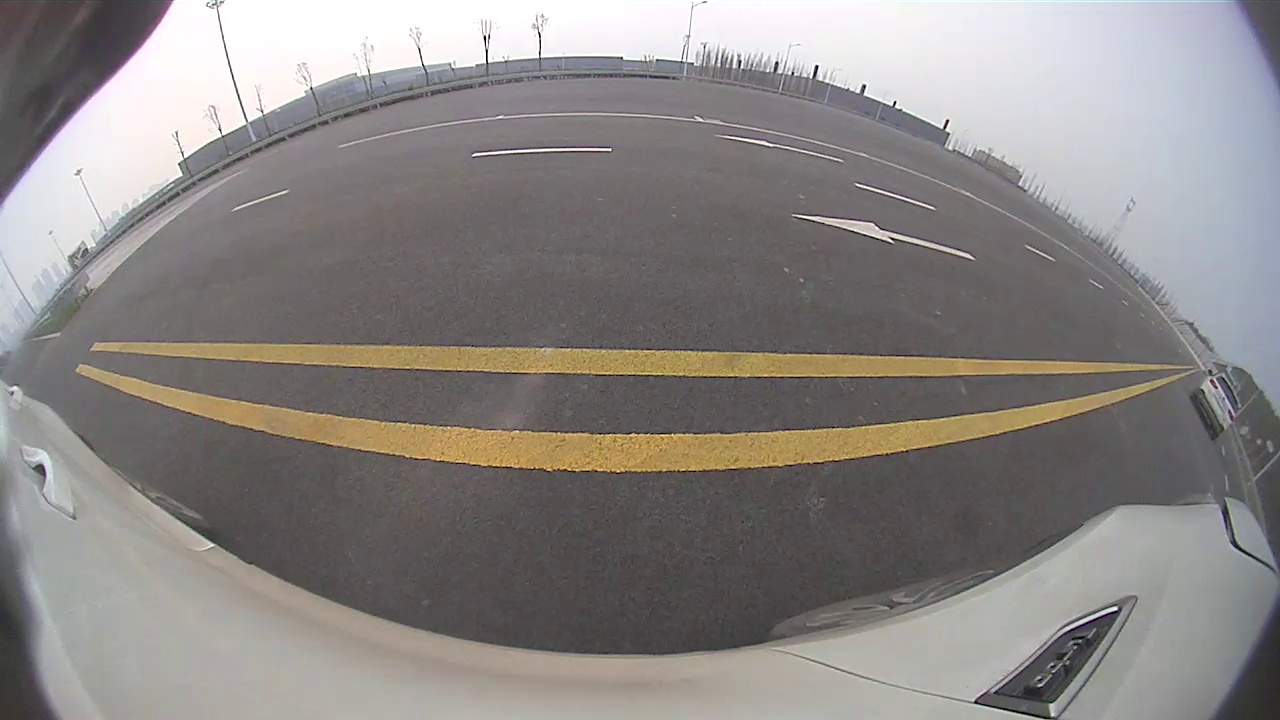car: (1189, 369, 1240, 440)
